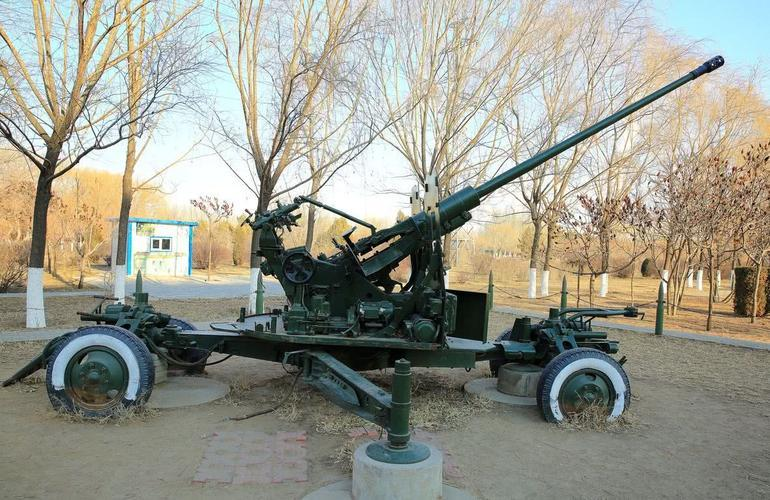MIL_SPG: (3, 56, 723, 463)
